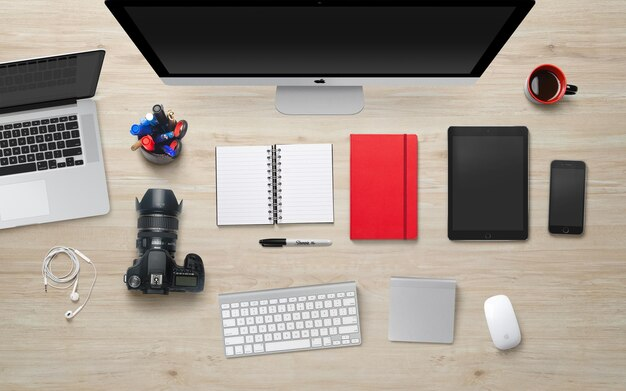not a gesture sign: (106, 0, 534, 114), (220, 281, 362, 357), (216, 142, 333, 225), (448, 127, 529, 240), (350, 133, 417, 239), (389, 277, 455, 342), (549, 161, 584, 233)
